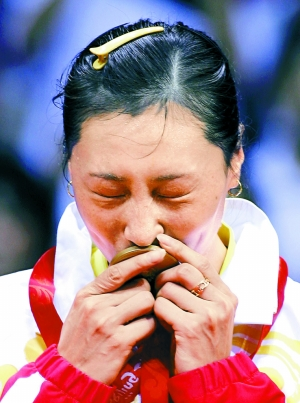face: (73, 95, 226, 282)
